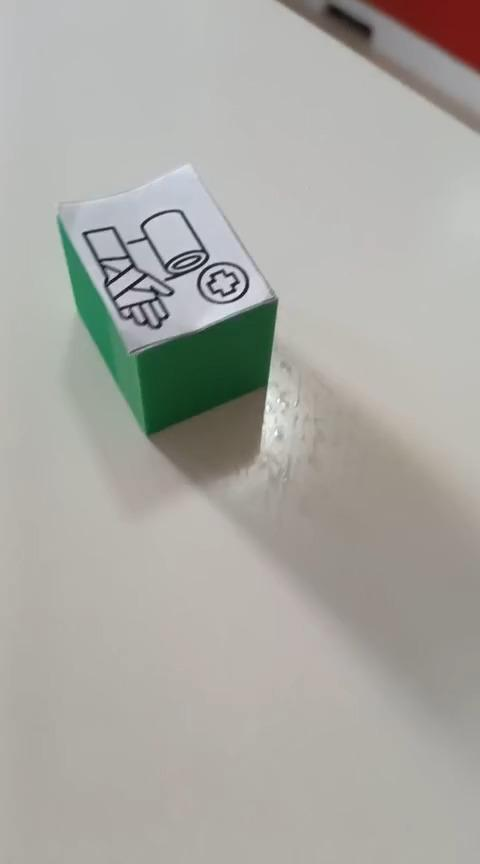Bandages: (55, 161, 279, 436)
